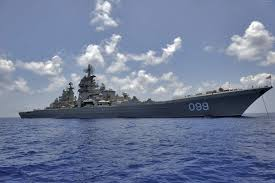tau_muctieu: (21, 69, 269, 118)
